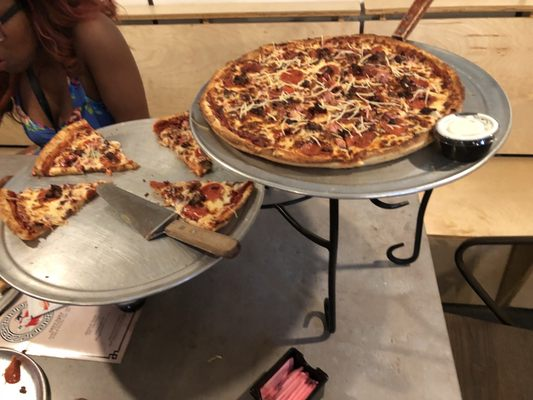curry: (0, 21, 532, 400)
sandwich: (200, 34, 465, 167), (30, 118, 140, 176), (0, 182, 100, 245), (146, 178, 255, 231), (151, 111, 212, 178)
